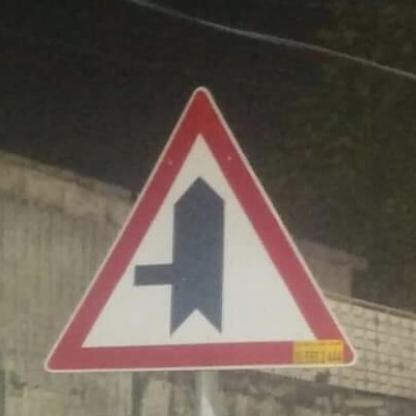Cross Roads: (39, 85, 357, 374)
